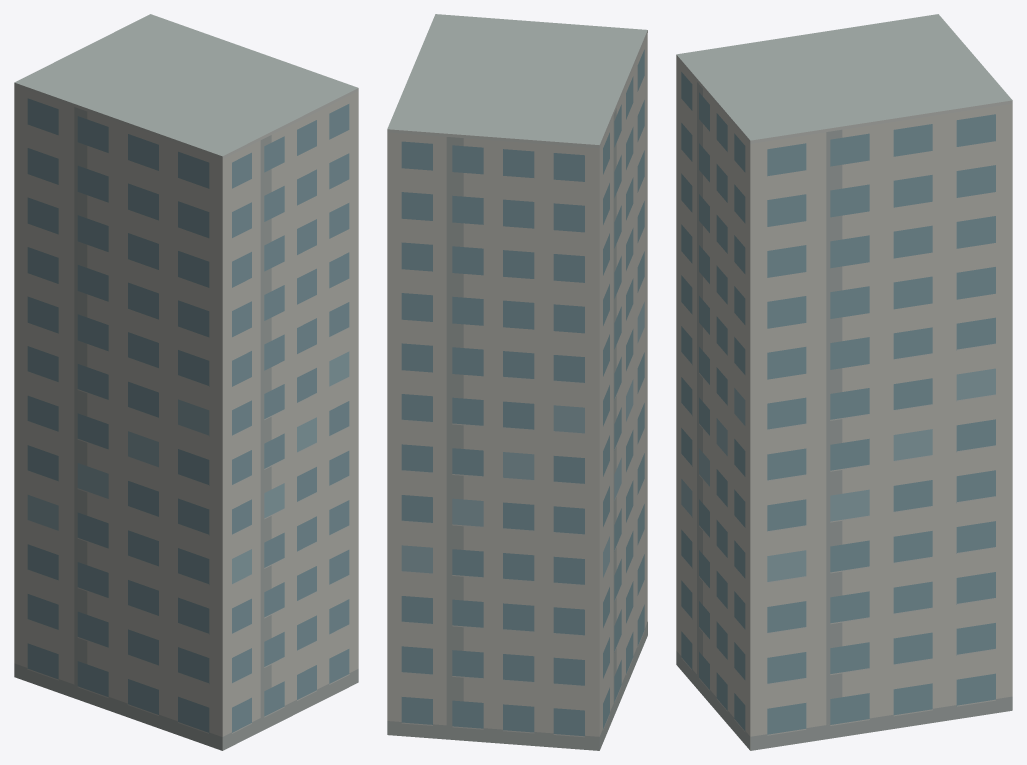
File: residential-bcf18dc4-8087-4252-aa1d-6be4e46204ff.glb
3 views of the same model, side by side, from view 1: azimuth 30°, elevation 25°; view 2: azimuth 150°, elevation 25°; view 3: azimuth 270°, elevation 25° (orthographic). The views are drawn at different scales.
Parts seen in each view (by area): view 1: residential-bcf18dc4-8087-4252-aa1d-6be4e46204ff.tmp; view 2: residential-bcf18dc4-8087-4252-aa1d-6be4e46204ff.tmp; view 3: residential-bcf18dc4-8087-4252-aa1d-6be4e46204ff.tmp.
Part boxes in pixels (x1,y1,x2,y2): residential-bcf18dc4-8087-4252-aa1d-6be4e46204ff.tmp: (14, 14, 358, 750); residential-bcf18dc4-8087-4252-aa1d-6be4e46204ff.tmp: (387, 14, 647, 750); residential-bcf18dc4-8087-4252-aa1d-6be4e46204ff.tmp: (676, 14, 1012, 750).
Size of the model in its own units: 20.92 by 47 by 23.49.
